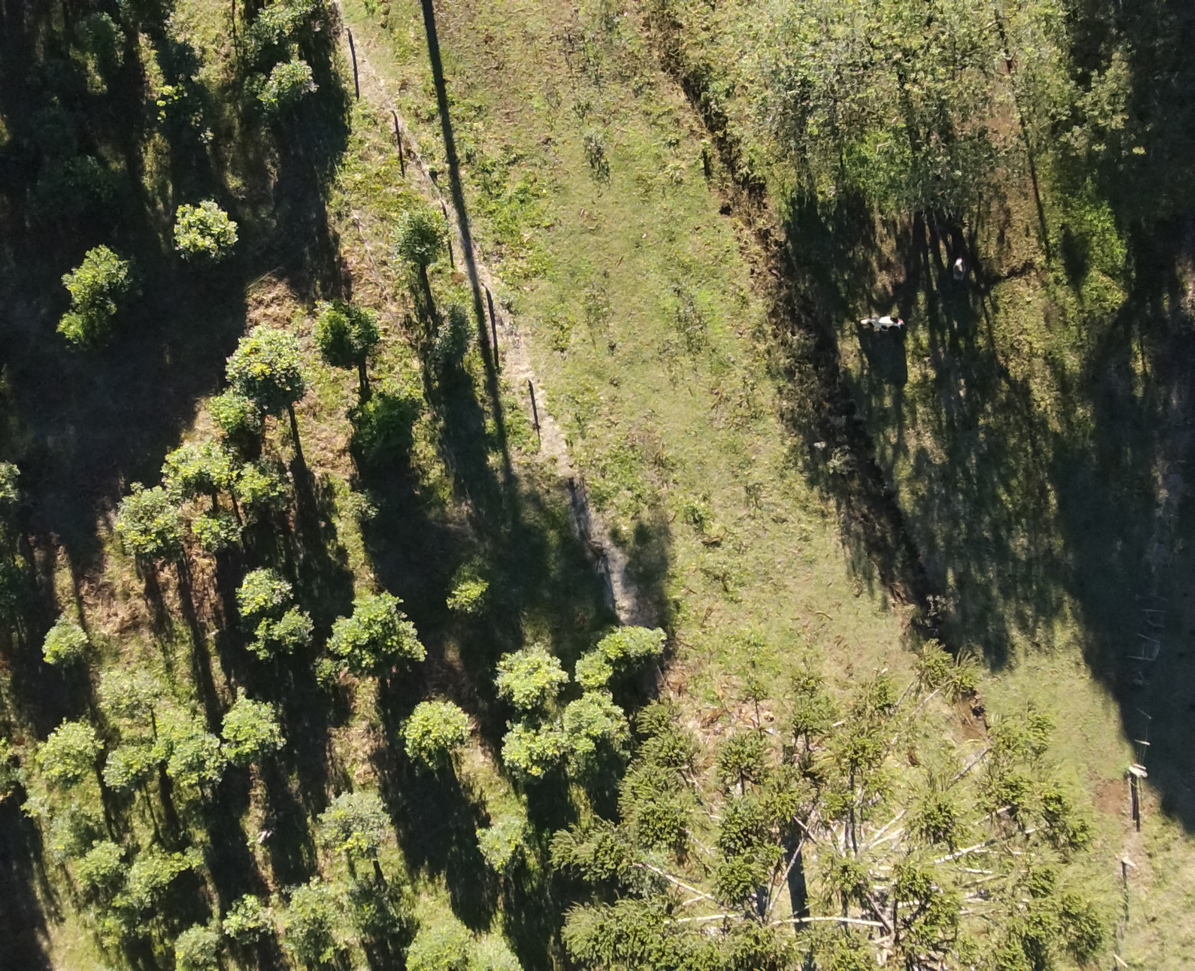erva: (105, 486, 191, 561), (55, 243, 157, 303), (240, 333, 316, 412), (223, 692, 290, 768), (498, 641, 569, 710), (400, 698, 475, 762), (320, 793, 391, 860), (103, 734, 175, 800), (395, 205, 461, 276), (166, 203, 245, 262), (173, 728, 235, 799), (424, 300, 488, 368), (495, 718, 567, 778), (590, 618, 667, 674), (159, 435, 229, 495), (356, 394, 420, 457), (317, 307, 380, 370), (33, 615, 102, 672), (37, 723, 101, 784), (49, 308, 125, 359), (335, 614, 389, 677), (124, 848, 187, 902), (580, 684, 637, 743), (265, 54, 319, 114), (343, 577, 406, 628), (80, 828, 124, 900), (111, 668, 167, 722), (214, 388, 264, 447), (41, 809, 99, 857), (248, 6, 316, 46), (232, 459, 287, 506), (239, 565, 288, 617), (453, 565, 501, 618), (170, 919, 221, 968), (232, 617, 285, 663), (571, 641, 617, 690), (228, 890, 272, 941), (561, 735, 604, 786), (192, 520, 247, 559), (391, 624, 435, 668), (279, 604, 317, 647)
